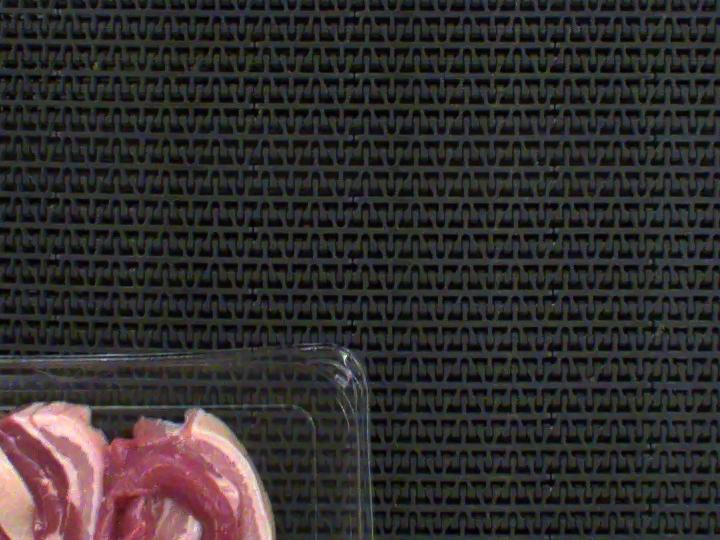twisted-meat: (0, 408, 88, 540)
